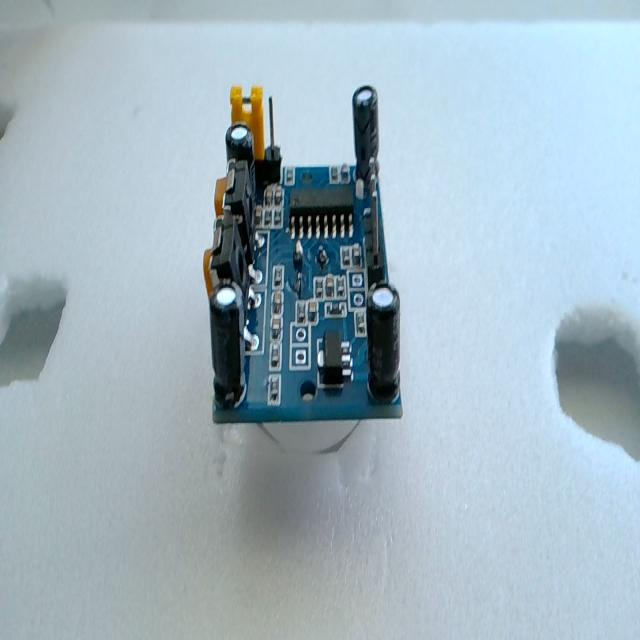Electrolytic capacitor: (208, 282, 246, 404), (367, 282, 402, 396), (352, 83, 379, 182), (226, 122, 254, 172)
IC: (287, 185, 355, 239)
pinheader: (360, 149, 395, 289)
